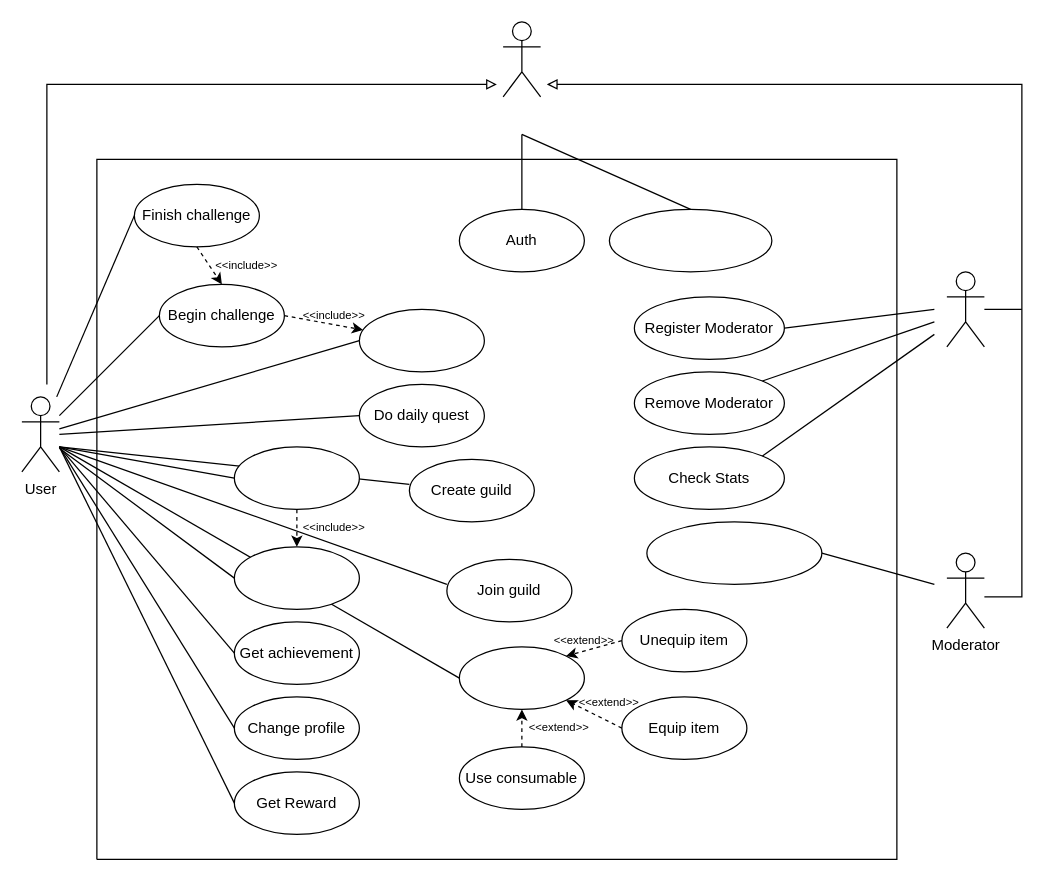
The diagram is 1054 pixels wide and 883 high, and some of its shapes have lost their labels. Each missing label, with the box of its shape:
Administrator: (946, 271, 984, 347)
Block User: (646, 521, 822, 584)
Finish competition: (233, 546, 359, 609)
Not authorized user: (502, 21, 541, 97)
Register: (608, 208, 772, 272)
Start competition: (233, 446, 359, 509)
Use inventory: (458, 646, 584, 709)
View challenges list: (358, 308, 484, 372)
